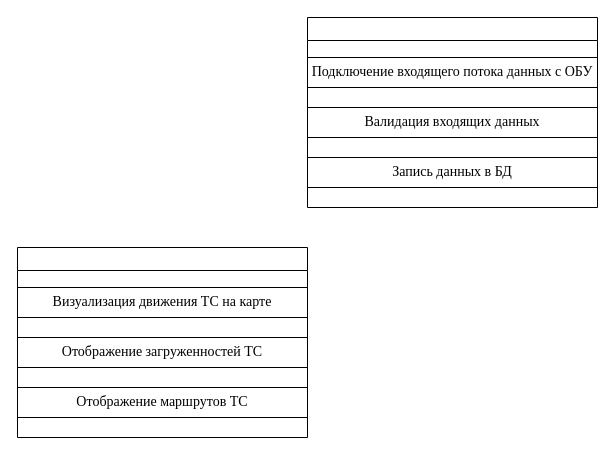
The diagram is 615 pixels wide and 455 high, and some of its shapes have lost their labels. The box of each missing label's shape, as (x1, y1, x2, y2) in pixels:
Модуль обработки телеметрии: (306, 16, 598, 208)
Модуль отображения данных: (16, 246, 308, 438)
